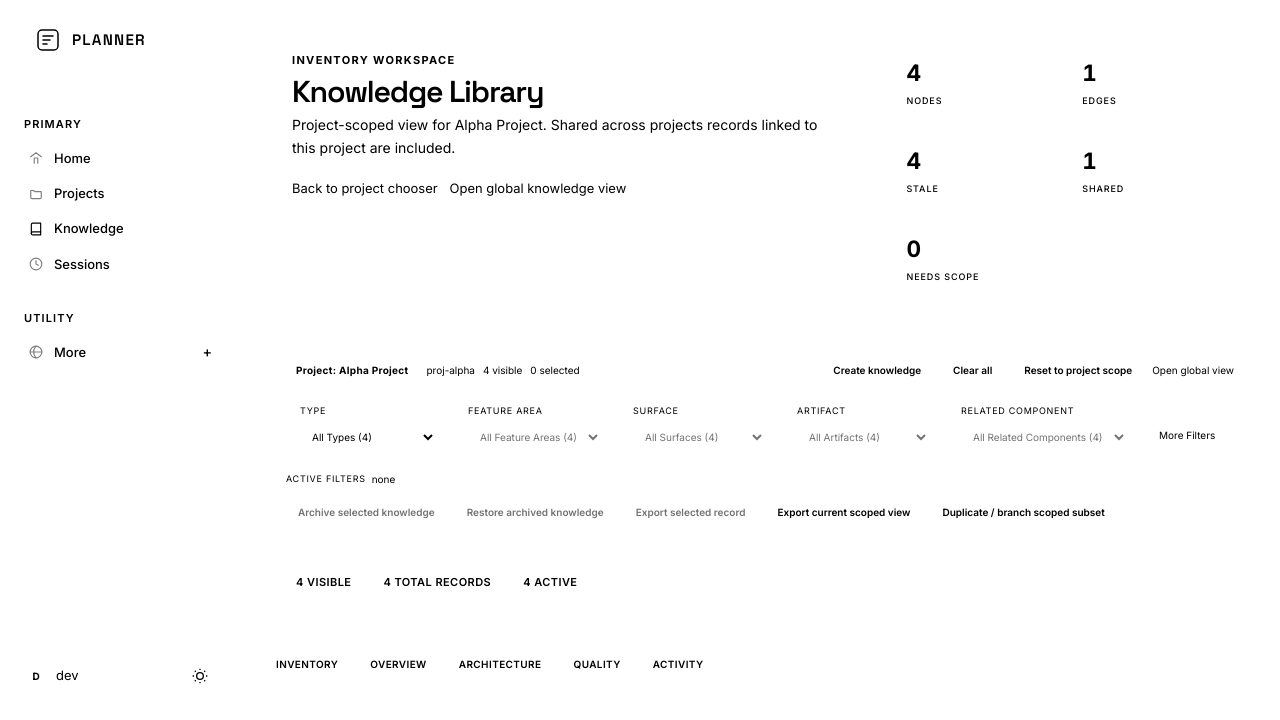
Scenario: KnowledgeLibraryPage phase 2 routing › surfaces override-specific activity summaries and lineage details
(page scrolled)
Expected: the text "Project: Alpha Project" is shown, [296,364,408,376]
Click the button "Activity" at (678,664), box [641,650,716,679]
(page scrolled)
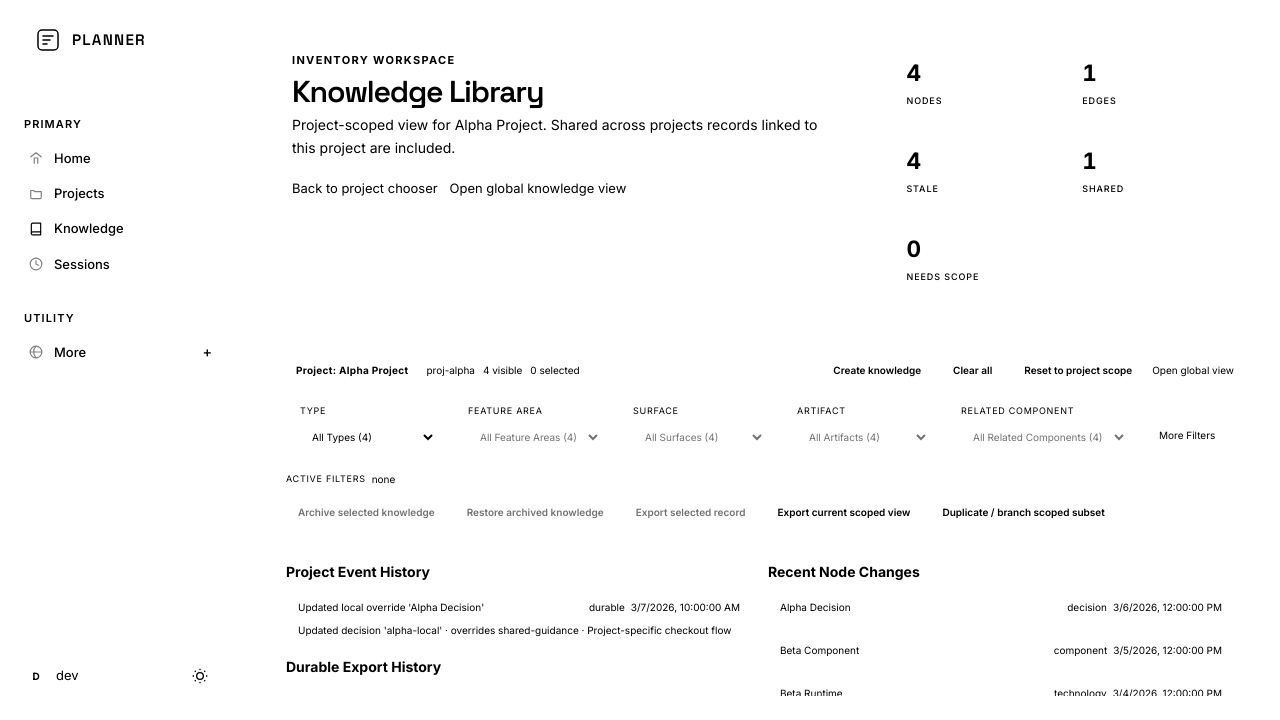
Result: the text "Updated local override 'Alpha Decision'" is shown at [298,601,484,613]
Result: the text "overrides shared-guidance · project-specific checkout flow" is shown at [298,624,731,636]
